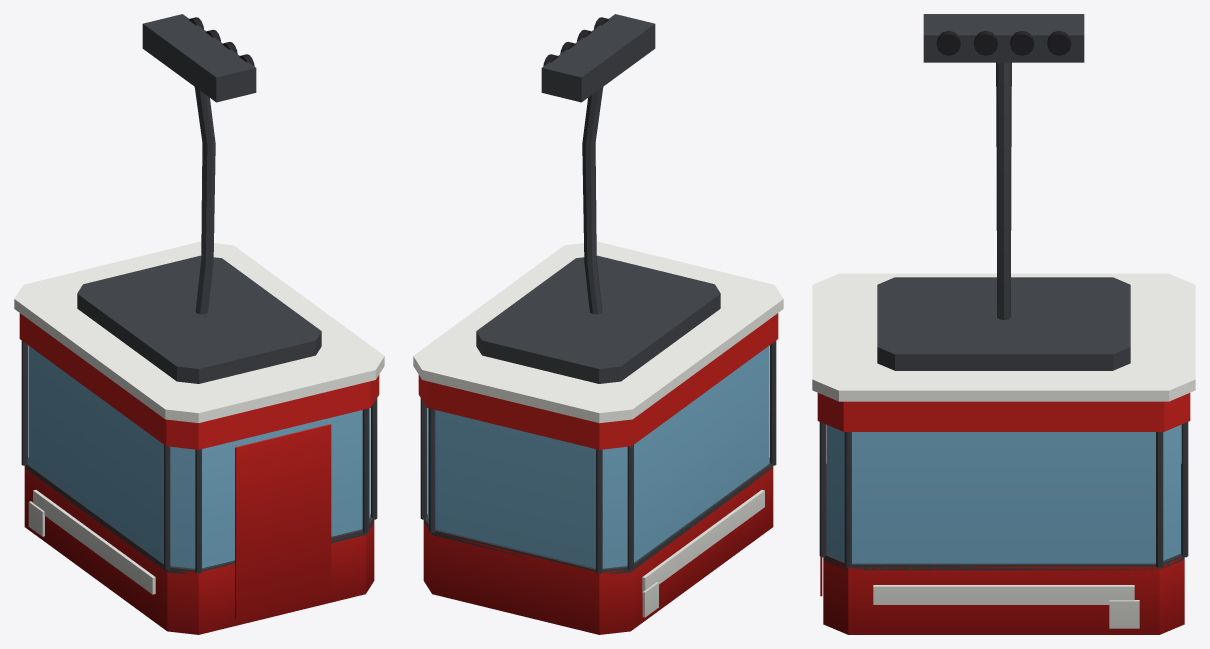
File: CableCar_Cabin.fbx
The picture shows the model from 3 angles, left to right: view 1: azimuth 30°, elevation 25°; view 2: azimuth 150°, elevation 25°; view 3: azimuth 270°, elevation 25°; orthographic projection. The views are drawn at different scales.
Parts seen in each view (by area): view 1: CableCar_Cabin_LOD0; view 2: CableCar_Cabin_LOD0; view 3: CableCar_Cabin_LOD0.
Boxes of the visible parts, x1=… form: CableCar_Cabin_LOD0: x1=14, y1=14, x2=384, y2=634; CableCar_Cabin_LOD0: x1=413, y1=14, x2=783, y2=634; CableCar_Cabin_LOD0: x1=812, y1=14, x2=1195, y2=634.
Size of what is drawn, in the model's own units: 2.76 by 6.25 by 3.82.
Materials: 1 (1 with a texture image).
